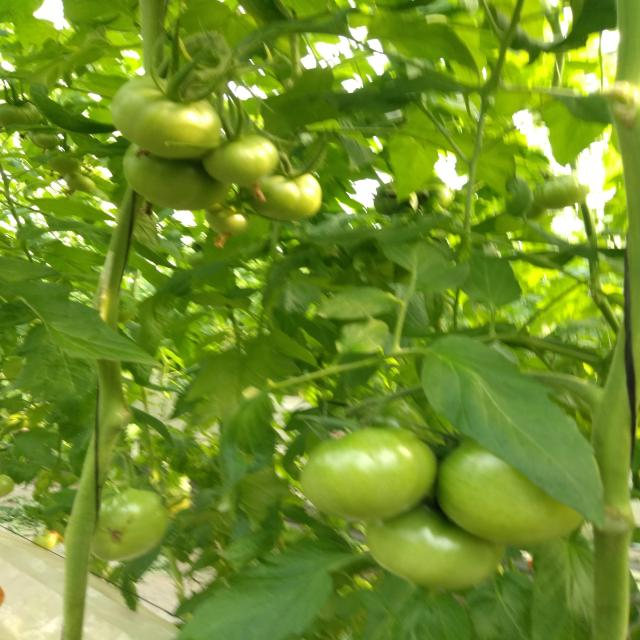yesil: (289, 385, 599, 620), (74, 22, 316, 243)
